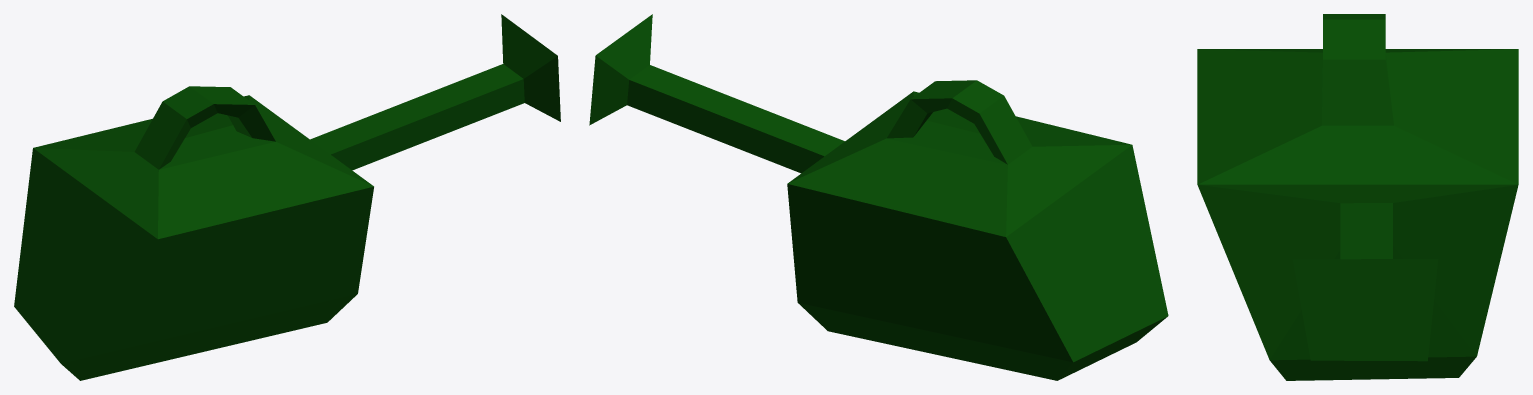
File: Wateringcan.fbx
3 views of the same model, side by side, from view 1: azimuth 30°, elevation 25°; view 2: azimuth 150°, elevation 25°; view 3: azimuth 270°, elevation 25° (orthographic). The views are drawn at different scales.
Parts seen in each view (by area): view 1: WateringCan; view 2: WateringCan; view 3: WateringCan.
Part boxes in pixels (x1,y1,x2,y2): WateringCan: (14, 14, 560, 380); WateringCan: (589, 14, 1168, 380); WateringCan: (1197, 14, 1518, 380).
Size of the model in its own units: 55.08 by 23.83 by 23.21.
